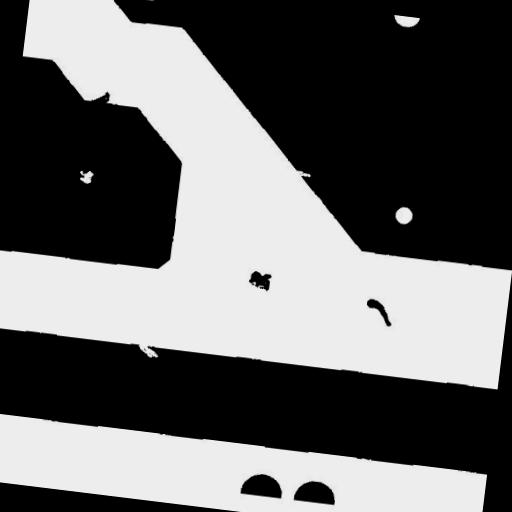copper: (356, 290, 402, 335), (239, 262, 280, 300)
mousebite: (127, 332, 168, 366), (287, 162, 320, 186)
pin-hole: (386, 197, 422, 233), (70, 161, 102, 192)
spur: (82, 81, 118, 114)
